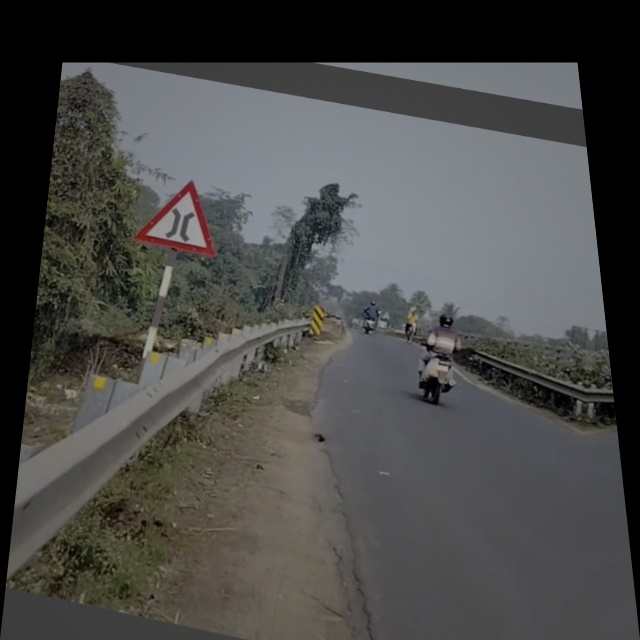Narrow_Bridge: (135, 174, 233, 260)
